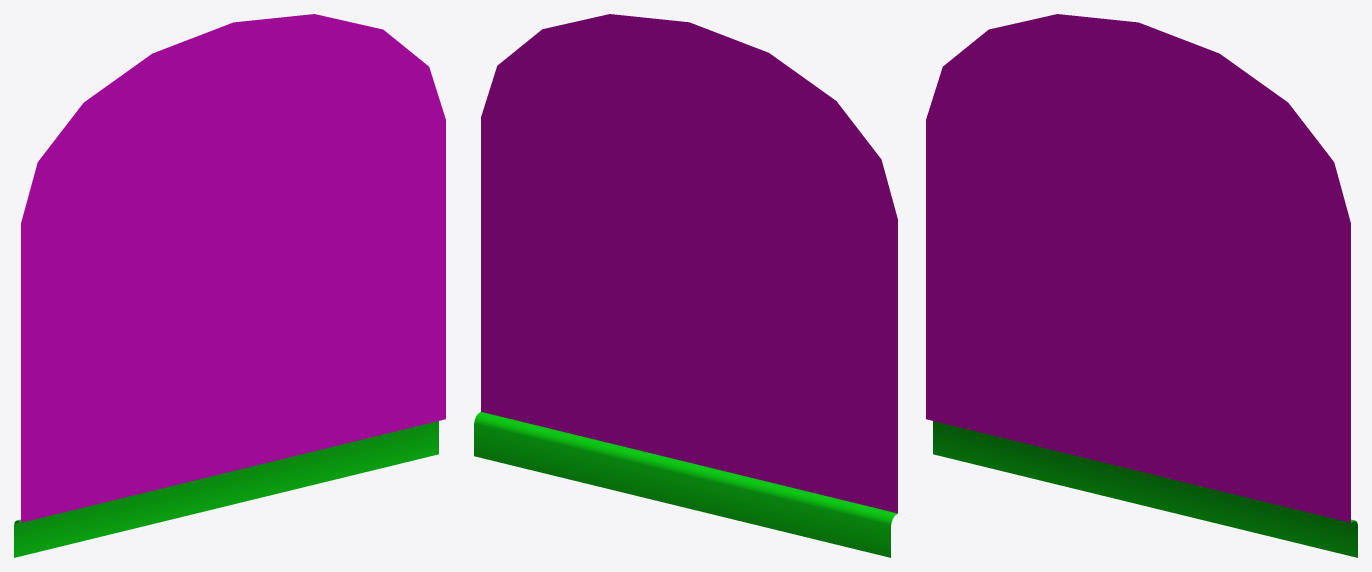
File: medieval_hallway_wall.fbx
The picture shows the model from 3 angles, left to right: view 1: azimuth 30°, elevation 25°; view 2: azimuth 150°, elevation 25°; view 3: azimuth 330°, elevation 25°; orthographic projection.
Visible parts, largest first — view 1: Cube; view 2: Cube; view 3: Cube.
Part boxes in pixels (x1,y1,x2,y2): Cube: (14, 14, 445, 557); Cube: (474, 14, 897, 557); Cube: (926, 14, 1357, 557).
Size of the model in its own units: 171 by 187 by 4.84.
